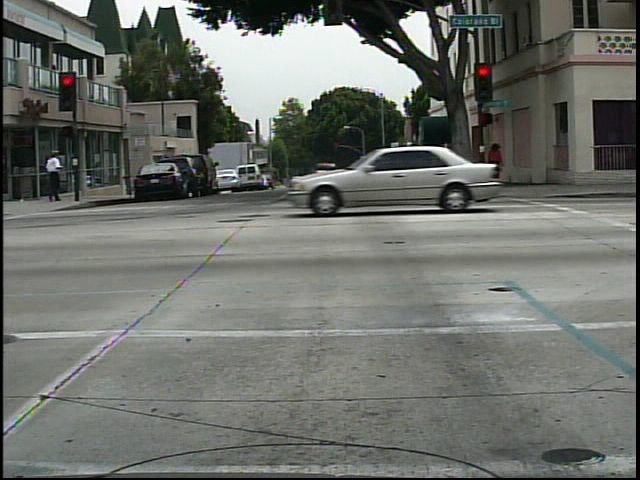person: (40, 144, 68, 203), (478, 139, 508, 193)
